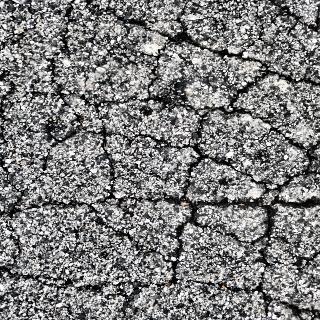alligator-crack: (3, 2, 320, 320)
